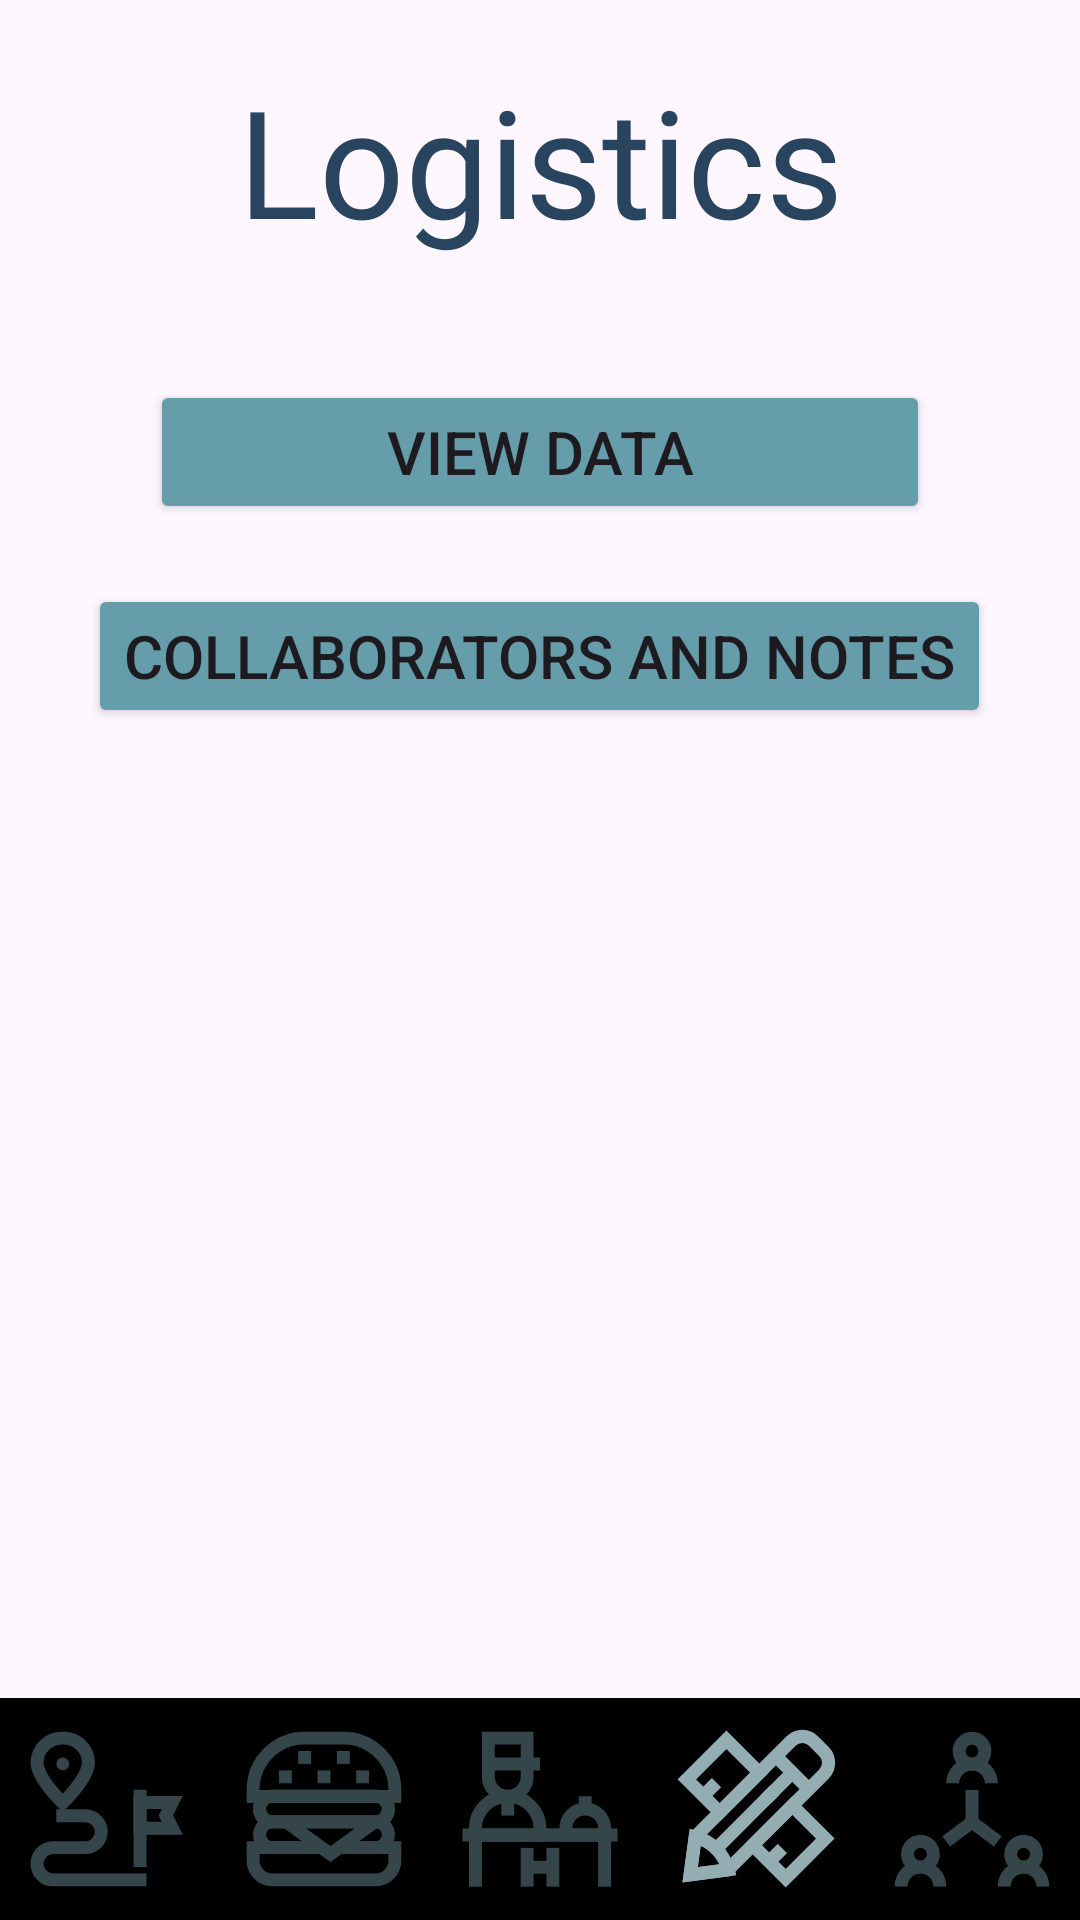

Where to tap for icons on this 1080px×1920px app screen, as (x=x, y=y):
accommodations: (x=540, y=1809)
destinations: (x=106, y=1809)
dining establishments: (x=324, y=1809)
logistics: (x=756, y=1808)
travel community: (x=972, y=1809)
